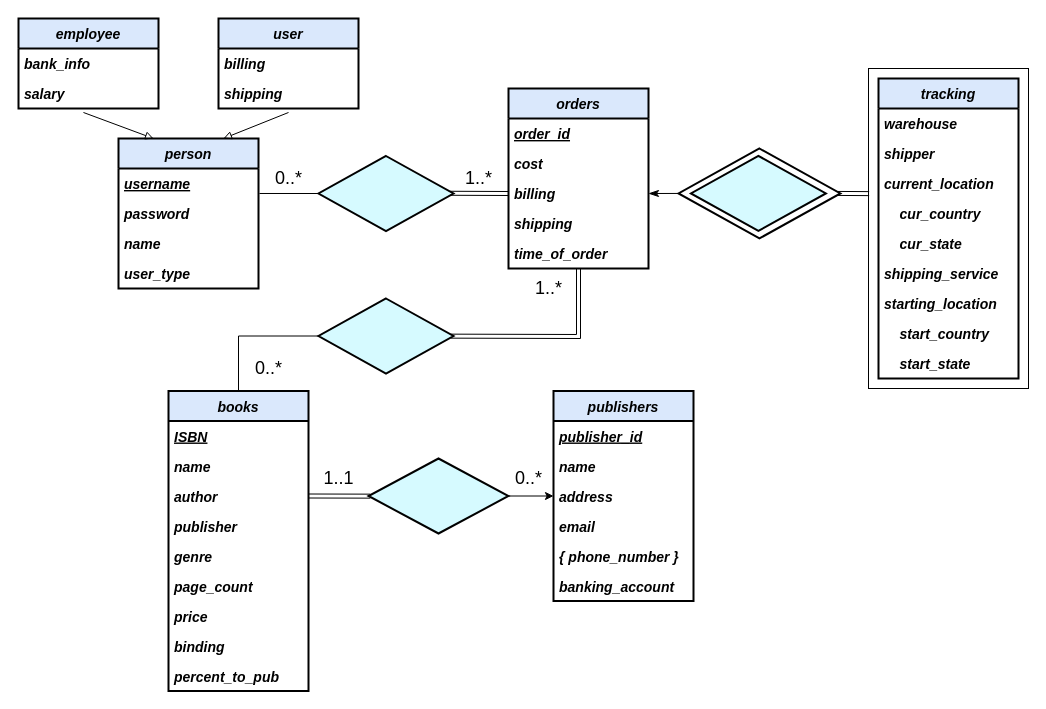
The diagram is 1046 pixels wide and 709 high, and some of its shapes have lost their labels. The shapes that lost their labels are listed below. From the top down, each one's centre as x and y in pixels, then its label:
the point at 385,193: user_orders
the point at 757,192: order_tracking
the point at 385,335: book_orders
the point at 438,495: published_by
